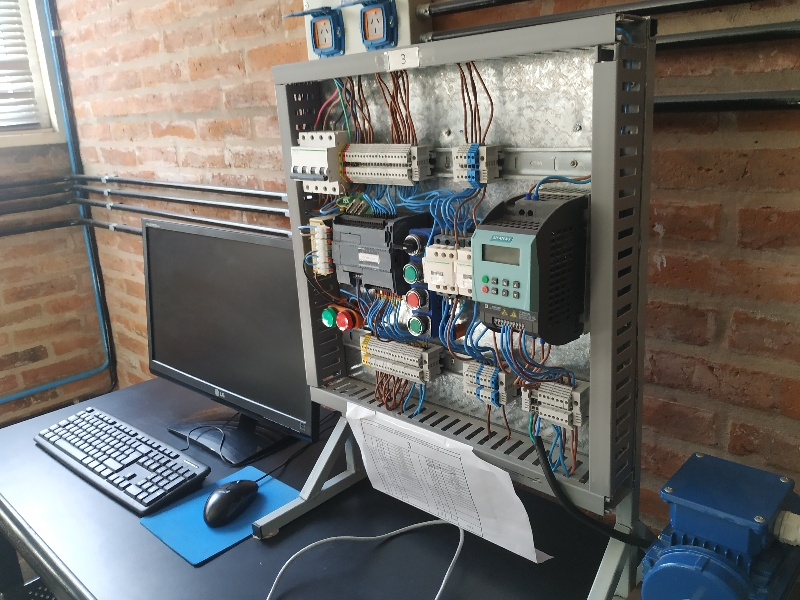Tablero 3: (288, 41, 633, 470)
